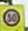limite 50: (3, 8, 20, 26)
